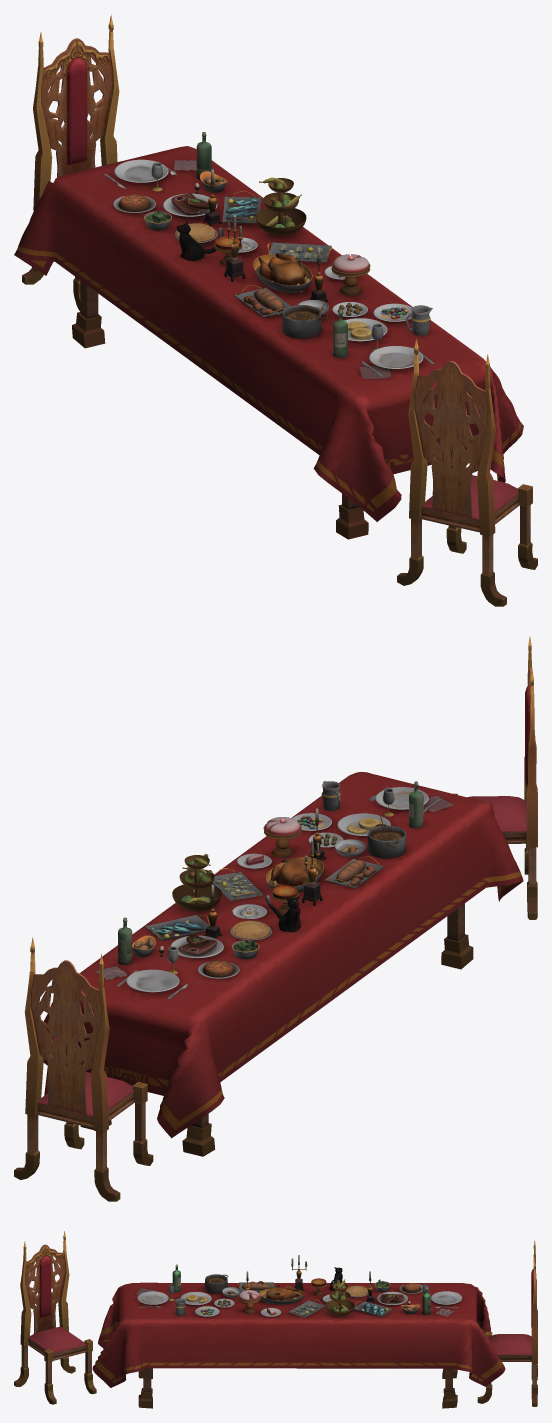
The model's file is food.glb.
3 views of the same model, one above another, from view 1: azimuth 30°, elevation 25°; view 2: azimuth 150°, elevation 25°; view 3: azimuth 270°, elevation 25° (orthographic). The views are drawn at different scales.
Parts seen in each view (by area): view 1: Cube.014; view 2: Cube.014; view 3: Cube.014.
Part boxes in pixels (x1=…): Cube.014: x1=14, y1=14, x2=537, y2=606; Cube.014: x1=14, y1=636, x2=537, y2=1201; Cube.014: x1=14, y1=1231, x2=537, y2=1408.
Bounding box in the file's own units: 5.35 × 6.17 × 20.33.
Materials: 13 (13 with a texture image).
